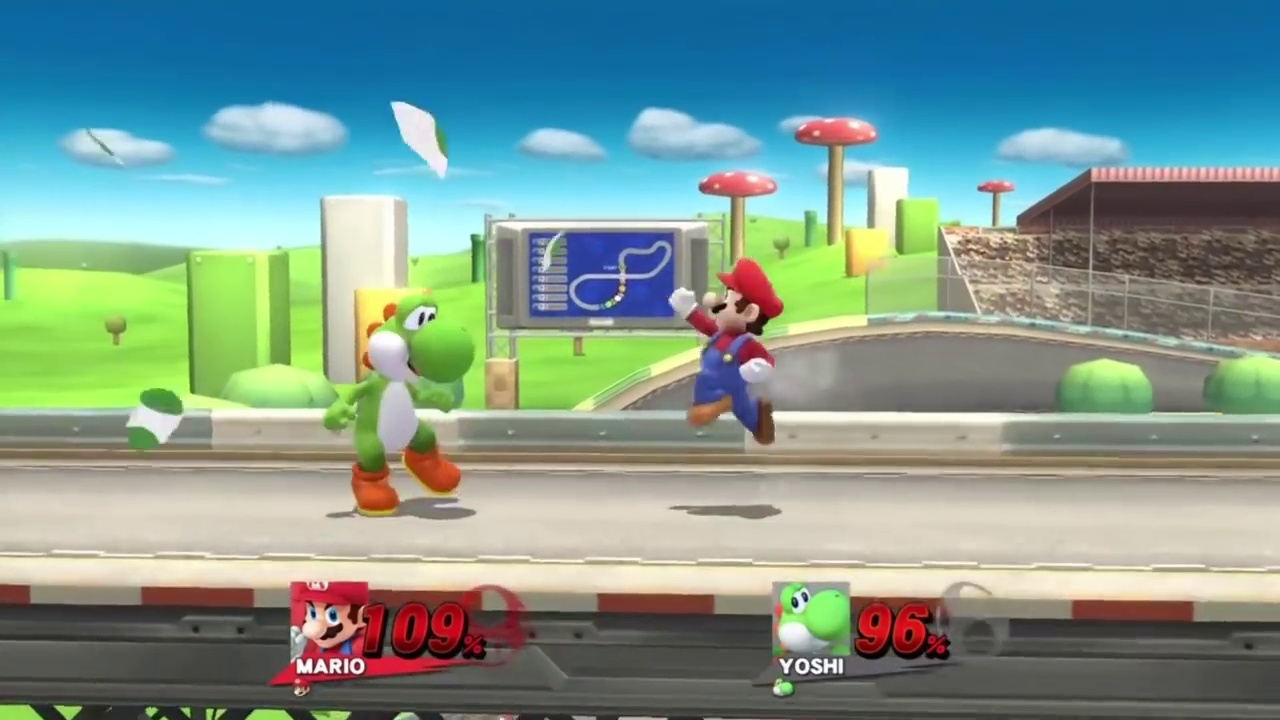Mario: (669, 259, 777, 445)
